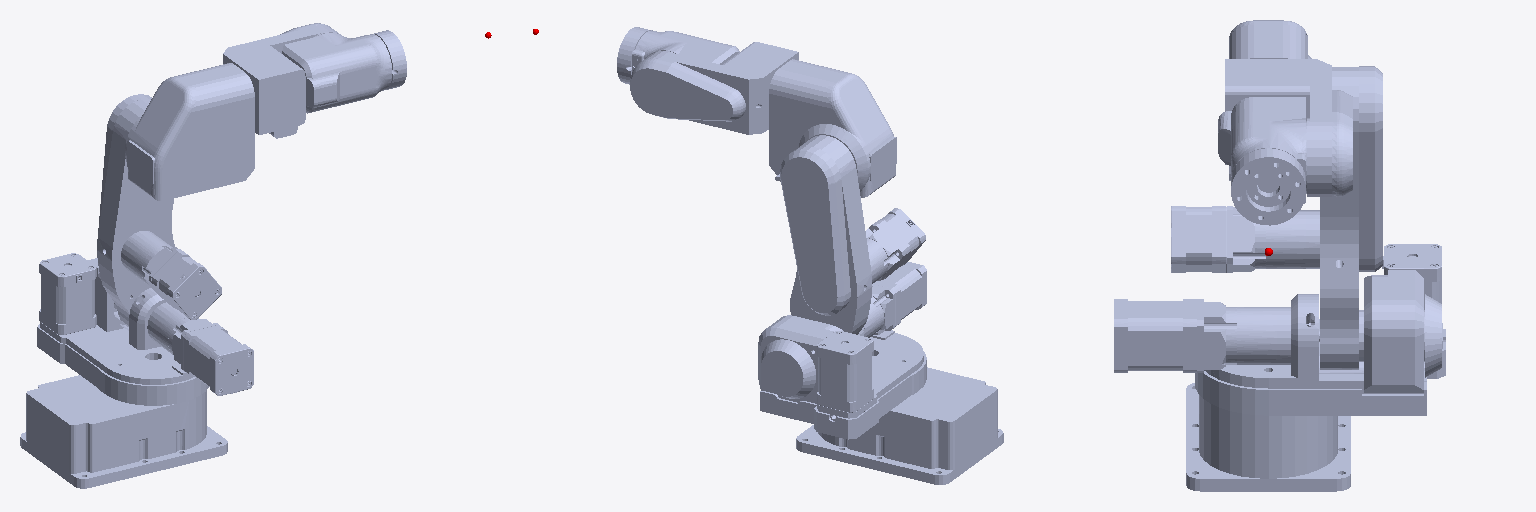
robot.urdf — par6_ssg48_urdf:
<?xml version="1.0" encoding="utf-8"?>
<!-- This URDF was automatically created by SolidWorks to URDF Exporter! Originally created by Stephen Brawner (brawner@gmail.com) 
     Commit Version: 1.6.0-4-g7f85cfe  Build Version: 1.6.7995.38578
     For more information, please see http://wiki.ros.org/sw_urdf_exporter -->
<robot
  name="par6_ssg48_urdf">
  <link
    name="base_link">
    <inertial>
      <origin
        xyz="-0.032918 -3.976E-09 0.031401"
        rpy="0 0 0" />
      <mass
        value="0.553" />
      <inertia
        ixx="0.0011895"
        ixy="-3.5359E-12"
        ixz="-5.9492E-05"
        iyy="0.0023816"
        iyz="-6.1682E-11"
        izz="0.0028249" />
    </inertial>
    <visual>
      <origin
        xyz="0 0 0"
        rpy="0 0 0" />
      <geometry>
        <mesh
          filename="package://par6_ssg48_gripper/meshes/base_link.STL" />
      </geometry>
      <material
        name="">
        <color
          rgba="0.792156862745098 0.819607843137255 0.933333333333333 1" />
      </material>
    </visual>
    <collision>
      <origin
        xyz="0 0 0"
        rpy="0 0 0" />
      <geometry>
        <mesh
          filename="package://par6_ssg48_gripper/meshes/base_link.STL" />
      </geometry>
    </collision>
  </link>
  <link
    name="shoulder">
    <inertial>
      <origin
        xyz="0.0065681 0.029094 0.099551"
        rpy="0 0 0" />
      <mass
        value="1.993" />
      <inertia
        ixx="0.0010066"
        ixy="-6.2658E-05"
        ixz="-5.9491E-05"
        iyy="0.00054695"
        iyz="-0.00013311"
        izz="0.0011908" />
    </inertial>
    <visual>
      <origin
        xyz="0 0 0"
        rpy="0 0 0" />
      <geometry>
        <mesh
          filename="package://par6_ssg48_gripper/meshes/shoulder.STL" />
      </geometry>
      <material
        name="">
        <color
          rgba="0.792156862745098 0.819607843137255 0.933333333333333 1" />
      </material>
    </visual>
    <collision>
      <origin
        xyz="0 0 0"
        rpy="0 0 0" />
      <geometry>
        <mesh
          filename="package://par6_ssg48_gripper/meshes/shoulder.STL" />
      </geometry>
    </collision>
  </link>
  <joint
    name="shoulder_JOINT"
    type="revolute">
    <origin
      xyz="0 0 0"
      rpy="0 0 0" />
    <parent
      link="base_link" />
    <child
      link="shoulder" />
    <axis
      xyz="0 0 -1" />
    <limit
      lower="0"
      upper="0"
      effort="0"
      velocity="0" />
  </joint>
  <link
    name="upper_arm">
    <inertial>
      <origin
        xyz="-0.0085493 -0.071342 0.041639"
        rpy="0 0 0" />
      <mass
        value="1.332" />
      <inertia
        ixx="0.001614"
        ixy="-2.3762E-05"
        ixz="-1.2377E-05"
        iyy="0.0002833"
        iyz="-0.00013464"
        izz="0.0016392" />
    </inertial>
    <visual>
      <origin
        xyz="0 0 0"
        rpy="0 0 0" />
      <geometry>
        <mesh
          filename="package://par6_ssg48_gripper/meshes/upper_arm.STL" />
      </geometry>
      <material
        name="">
        <color
          rgba="0.792156862745098 0.819607843137255 0.933333333333333 1" />
      </material>
    </visual>
    <collision>
      <origin
        xyz="0 0 0"
        rpy="0 0 0" />
      <geometry>
        <mesh
          filename="package://par6_ssg48_gripper/meshes/upper_arm.STL" />
      </geometry>
    </collision>
  </link>
  <joint
    name="upper_arm_JOINT"
    type="revolute">
    <origin
      xyz="0.023421 0 0.1105"
      rpy="-1.5708 0 0" />
    <parent
      link="shoulder" />
    <child
      link="upper_arm" />
    <axis
      xyz="0 0 1" />
    <limit
      lower="-0.9"
      upper="0.9"
      effort="0"
      velocity="0" />
  </joint>
  <link
    name="elbow">
    <inertial>
      <origin
        xyz="0.015551 -0.019113 -0.0015332"
        rpy="0 0 0" />
      <mass
        value="0.681" />
      <inertia
        ixx="0.00057828"
        ixy="0.00011651"
        ixz="-1.1996E-05"
        iyy="0.00056701"
        iyz="1.5581E-05"
        izz="0.00081586" />
    </inertial>
    <visual>
      <origin
        xyz="0 0 0"
        rpy="0 0 0" />
      <geometry>
        <mesh
          filename="package://par6_ssg48_gripper/meshes/elbow.STL" />
      </geometry>
      <material
        name="">
        <color
          rgba="0.792156862745098 0.819607843137255 0.933333333333333 1" />
      </material>
    </visual>
    <collision>
      <origin
        xyz="0 0 0"
        rpy="0 0 0" />
      <geometry>
        <mesh
          filename="package://par6_ssg48_gripper/meshes/elbow.STL" />
      </geometry>
    </collision>
  </link>
  <joint
    name="elbow_JOINT"
    type="revolute">
    <origin
      xyz="0 -0.18 0"
      rpy="3.1416 0 -1.5708" />
    <parent
      link="upper_arm" />
    <child
      link="elbow" />
    <axis
      xyz="0 0 -1" />
    <limit
      lower="0"
      upper="0"
      effort="0"
      velocity="0" />
  </joint>
  <link
    name="lower_arm">
    <inertial>
      <origin
        xyz="0.00052734 -0.010166 -0.092593"
        rpy="0 0 0" />
      <mass
        value="0.579" />
      <inertia
        ixx="0.00038381"
        ixy="-5.7178E-06"
        ixz="-1.1344E-06"
        iyy="0.00032461"
        iyz="-6.4819E-05"
        izz="0.00025249" />
    </inertial>
    <visual>
      <origin
        xyz="0 0 0"
        rpy="0 0 0" />
      <geometry>
        <mesh
          filename="package://par6_ssg48_gripper/meshes/lower_arm.STL" />
      </geometry>
      <material
        name="">
        <color
          rgba="0.792156862745098 0.819607843137255 0.933333333333333 1" />
      </material>
    </visual>
    <collision>
      <origin
        xyz="0 0 0"
        rpy="0 0 0" />
      <geometry>
        <mesh
          filename="package://par6_ssg48_gripper/meshes/lower_arm.STL" />
      </geometry>
    </collision>
  </link>
  <joint
    name="lower_arm_JOINT"
    type="revolute">
    <origin
      xyz="0.0435 0 0"
      rpy="1.5708 0 -3.1416" />
    <parent
      link="elbow" />
    <child
      link="lower_arm" />
    <axis
      xyz="0 0 -1" />
    <limit
      lower="0"
      upper="0"
      effort="0"
      velocity="0" />
  </joint>
  <link
    name="wrist">
    <inertial>
      <origin
        xyz="-1.5461E-06 -0.0031485 0.00019393"
        rpy="0 0 0" />
      <mass
        value="0.523" />
      <inertia
        ixx="0.00018083"
        ixy="-4.6339E-10"
        ixz="-6.7928E-09"
        iyy="0.00010621"
        iyz="2.8796E-06"
        izz="0.0001756" />
    </inertial>
    <visual>
      <origin
        xyz="0 0 0"
        rpy="0 0 0" />
      <geometry>
        <mesh
          filename="package://par6_ssg48_gripper/meshes/wrist.STL" />
      </geometry>
      <material
        name="">
        <color
          rgba="0.792156862745098 0.819607843137255 0.933333333333333 1" />
      </material>
    </visual>
    <collision>
      <origin
        xyz="0 0 0"
        rpy="0 0 0" />
      <geometry>
        <mesh
          filename="package://par6_ssg48_gripper/meshes/wrist.STL" />
      </geometry>
    </collision>
  </link>
  <joint
    name="wrist_JOINT"
    type="revolute">
    <origin
      xyz="0 0 -0.177"
      rpy="-1.5708 0 0" />
    <parent
      link="lower_arm" />
    <child
      link="wrist" />
    <axis
      xyz="0 0 1" />
    <limit
      lower="0"
      upper="0"
      effort="0"
      velocity="0" />
  </joint>
  <link
    name="gripper">
    <inertial>
      <origin
        xyz="-6.7987E-05 0.0001694 -0.077391"
        rpy="0 0 0" />
      <mass
        value="0.374" />
      <inertia
        ixx="0.00012751"
        ixy="-1.7736E-07"
        ixz="-2.8206E-06"
        iyy="5.8635E-05"
        iyz="-5.29E-07"
        izz="0.00014769" />
    </inertial>
    <visual>
      <origin
        xyz="0 0 0"
        rpy="0 0 0" />
      <geometry>
        <mesh
          filename="package://par6_ssg48_gripper/meshes/gripper.STL" />
      </geometry>
      <material
        name="">
        <color
          rgba="0.792156862745098 0.819607843137255 0.933333333333333 1" />
      </material>
    </visual>
    <collision>
      <origin
        xyz="0 0 0"
        rpy="0 0 0" />
      <geometry>
        <mesh
          filename="package://par6_ssg48_gripper/meshes/gripper.STL" />
      </geometry>
    </collision>
  </link>
  <joint
    name="gripper_JOINT"
    type="revolute">
    <origin
      xyz="0 0 0"
      rpy="1.5708 0 0" />
    <parent
      link="wrist" />
    <child
      link="gripper" />
    <axis
      xyz="0 0 -1" />
    <limit
      lower="0"
      upper="0"
      effort="0"
      velocity="0" />
  </joint>
  <link
    name="jaw1">
    <inertial>
      <origin
        xyz="0.0033269 0.029197 -0.0097237"
        rpy="0 0 0" />
      <mass
        value="0.02" />
      <inertia
        ixx="3.7875E-06"
        ixy="6.5971E-07"
        ixz="3.113E-07"
        iyy="1.5397E-06"
        iyz="-6.1777E-07"
        izz="4.4716E-06" />
    </inertial>
    <visual>
      <origin
        xyz="0 0 0"
        rpy="0 0 0" />
      <geometry>
        <mesh
          filename="package://par6_ssg48_gripper/meshes/jaw1.STL" />
      </geometry>
      <material
        name="">
        <color
          rgba="0.29804 0.29804 0.29804 1" />
      </material>
    </visual>
    <collision>
      <origin
        xyz="0 0 0"
        rpy="0 0 0" />
      <geometry>
        <mesh
          filename="package://par6_ssg48_gripper/meshes/jaw1.STL" />
      </geometry>
    </collision>
  </link>
  <joint
    name="jaw1_JOINT"
    type="prismatic">
    <origin
      xyz="0 0 -0.11745"
      rpy="-3.1416 0 -3.1416" />
    <parent
      link="gripper" />
    <child
      link="jaw1" />
    <axis
      xyz="0 -1 0" />
    <limit
      lower="0"
      upper="0"
      effort="0"
      velocity="0" />
  </joint>
  <link
    name="jaw2">
    <inertial>
      <origin
        xyz="-0.0033269 -0.029197 -0.0097237"
        rpy="0 0 0" />
      <mass
        value="0.02" />
      <inertia
        ixx="3.7875E-06"
        ixy="6.5971E-07"
        ixz="-3.113E-07"
        iyy="1.5397E-06"
        iyz="6.1777E-07"
        izz="4.4716E-06" />
    </inertial>
    <visual>
      <origin
        xyz="0 0 0"
        rpy="0 0 0" />
      <geometry>
        <mesh
          filename="package://par6_ssg48_gripper/meshes/jaw2.STL" />
      </geometry>
      <material
        name="">
        <color
          rgba="0.29804 0.29804 0.29804 1" />
      </material>
    </visual>
    <collision>
      <origin
        xyz="0 0 0"
        rpy="0 0 0" />
      <geometry>
        <mesh
          filename="package://par6_ssg48_gripper/meshes/jaw2.STL" />
      </geometry>
    </collision>
  </link>
  <joint
    name="jaw2_JOINT" type="prismatic">
    <mimic joint="jaw1_JOINT" multiplier="-1" offset="0"/>
    <origin
      xyz="0 0 -0.11745"
      rpy="-3.1416 0 -3.1416" />
    <parent
      link="gripper" />
    <child
      link="jaw2" />
    <axis
      xyz="0 -1 0" />
    <limit
      lower="0"
      upper="0"
      effort="0"
      velocity="0" />
  </joint>

  <link name="tcp">
    <visual>
      <origin xyz="0 0 0" rpy="0 0 0"/>
      <geometry>
        <sphere radius="0.003"/>
      </geometry>
      <material name="red">
        <color rgba="1 0 0 1"/>
      </material>
    </visual>
  </link>

  <joint name="tcp_fixed_joint" type="fixed">
    <parent link="gripper"/>
    <child link="tcp"/>
    <!-- Adjust this to match your real grasp center -->
    <origin xyz="0 0 -0.16" rpy="0 0 0"/>
  </joint>



<transmission name="gripper_transmission">
  <type>transmission_interface/SimpleTransmission</type>
  <joint name="gripper_JOINT">
    <hardwareInterface>PositionJointInterface</hardwareInterface>
  </joint>
  <actuator name="gripper_motor">
    <hardwareInterface>PositionJointInterface</hardwareInterface>
    <mechanicalReduction>1</mechanicalReduction>
  </actuator>
</transmission>

<transmission name="jaw_transmission">
  <type>transmission_interface/SimpleTransmission</type>
  <joint name="jaw1_JOINT">
    <hardwareInterface>PositionJointInterface</hardwareInterface>
  </joint>
  <actuator name="jaw_motor">
    <hardwareInterface>PositionJointInterface</hardwareInterface>
    <mechanicalReduction>1</mechanicalReduction>
  </actuator>
</transmission>



</robot>

--- What the picture shows (computed from the rendered views, not written in the file) ---
The picture shows the robot from 3 angles, left to right: view 1: azimuth 30°, elevation 25°; view 2: azimuth 150°, elevation 25°; view 3: azimuth 270°, elevation 25°; orthographic projection.
Robot: par6_ssg48_urdf — 10 links, 9 joints (6 revolute, 2 prismatic, 1 fixed); root link base_link; default pose: every joint at zero.
Visible links, largest first — view 1: shoulder, base_link, elbow, upper_arm, wrist, lower_arm, gripper; view 2: upper_arm, shoulder, base_link, elbow, lower_arm, wrist, gripper; view 3: shoulder, upper_arm, base_link, lower_arm, wrist, gripper, elbow.
Boxes of the visible links, <box> form: shoulder: <box>37,253,253,405</box>; base_link: <box>20,375,227,488</box>; elbow: <box>125,63,254,200</box>; upper_arm: <box>97,94,221,326</box>; wrist: <box>282,33,391,113</box>; lower_arm: <box>223,23,340,138</box>; gripper: <box>374,30,406,89</box>; upper_arm: <box>761,135,925,398</box>; shoulder: <box>758,262,926,439</box>; base_link: <box>796,367,1003,484</box>; elbow: <box>769,59,896,197</box>; lower_arm: <box>630,42,798,134</box>; wrist: <box>632,30,739,71</box>; gripper: <box>617,27,652,84</box>; shoulder: <box>1114,244,1445,415</box>; upper_arm: <box>1171,66,1441,377</box>; base_link: <box>1186,319,1350,491</box>; lower_arm: <box>1225,59,1352,196</box>; wrist: <box>1218,97,1305,203</box>; gripper: <box>1231,148,1305,225</box>; elbow: <box>1229,20,1311,180</box>.
Bounding box of the posed robot: 0.4771 × 0.2382 × 0.3625 m (x, y, z).
7 mesh visuals loaded from 9 distinct referenced files (7 binary STL); not drawn: 2 (reference not matched to a file when rendering).
